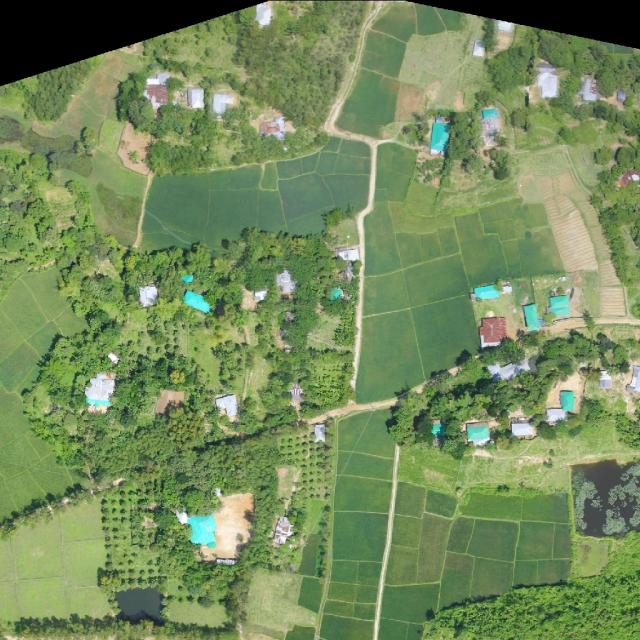agricultural_land: (357, 142, 568, 410), (127, 130, 385, 270), (513, 151, 640, 331), (0, 269, 85, 518), (318, 406, 399, 640), (30, 44, 153, 165), (0, 498, 110, 624), (79, 117, 155, 247), (509, 132, 640, 204), (396, 16, 486, 111), (335, 66, 407, 145), (432, 172, 542, 217), (395, 440, 462, 492), (359, 30, 407, 79), (436, 1, 466, 35), (415, 3, 445, 36)
building: (85, 372, 115, 413), (186, 514, 217, 547), (181, 288, 214, 315), (144, 74, 169, 109), (535, 63, 560, 98), (479, 317, 506, 347), (481, 108, 501, 146), (259, 114, 287, 141), (214, 393, 238, 422), (429, 122, 450, 155), (466, 421, 490, 447), (544, 295, 570, 319), (274, 515, 295, 544), (522, 303, 542, 333), (577, 77, 600, 102), (212, 92, 235, 116), (285, 382, 308, 406), (474, 284, 501, 303), (616, 167, 640, 188), (511, 421, 535, 439), (255, 3, 273, 26), (545, 407, 569, 424), (139, 285, 158, 306), (335, 246, 359, 261), (187, 88, 204, 109), (560, 390, 574, 411), (471, 38, 486, 57), (328, 286, 344, 301), (599, 371, 611, 389), (313, 424, 325, 442), (431, 423, 445, 438), (181, 272, 196, 285), (497, 22, 514, 32), (617, 90, 627, 102)
dryland: (467, 264, 540, 340), (534, 278, 587, 331), (574, 393, 607, 426), (585, 271, 599, 316), (610, 396, 631, 418)
greenland: (376, 299, 612, 481), (438, 481, 571, 619), (100, 490, 195, 592), (0, 56, 112, 136), (415, 108, 511, 188), (18, 42, 95, 129), (480, 37, 544, 96), (399, 112, 434, 149), (575, 541, 609, 577)
unmetalled_road: (347, 133, 384, 388), (321, 0, 385, 133), (325, 107, 339, 132)
wetland: (115, 587, 163, 618)
